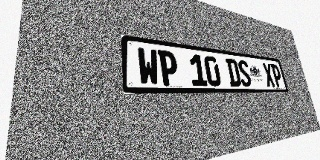0: (203, 55, 222, 86)
1: (188, 53, 208, 86)
D: (225, 58, 242, 86)
P: (158, 50, 179, 86), (270, 64, 284, 87)
S: (237, 60, 252, 87)
W: (137, 47, 160, 85)
X: (262, 63, 276, 87)
